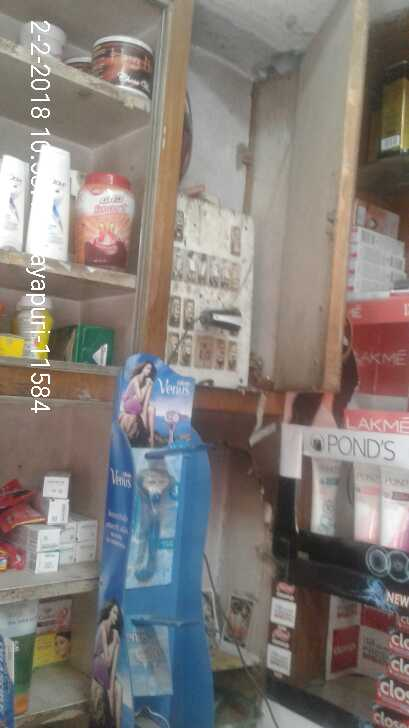venus: (128, 459, 177, 594)
